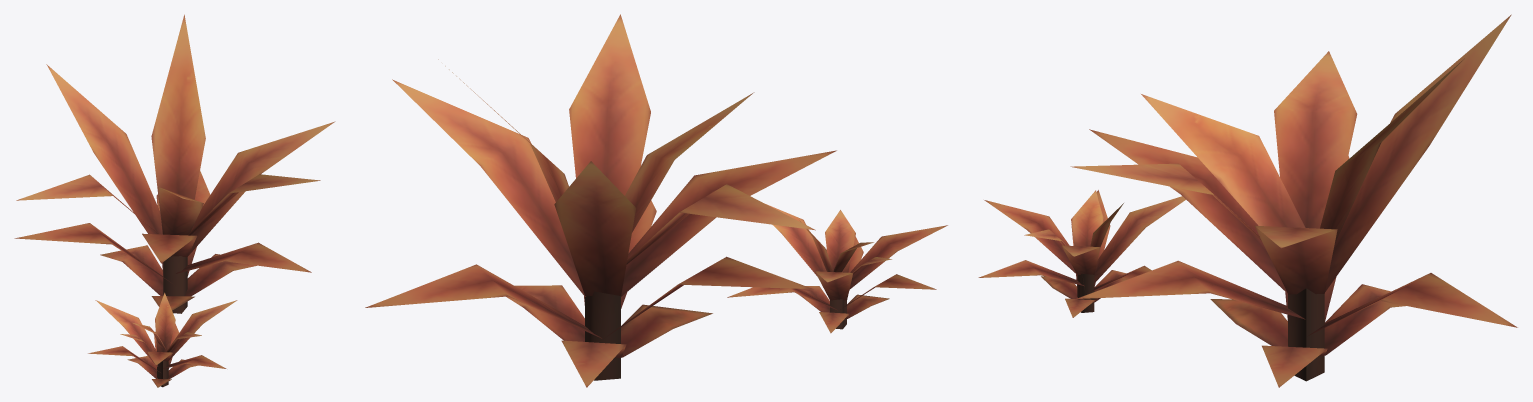
File: xiaozhiwu.FBX
The picture shows the model from 3 angles, left to right: view 1: azimuth 30°, elevation 25°; view 2: azimuth 150°, elevation 25°; view 3: azimuth 270°, elevation 25°; orthographic projection. The views are drawn at different scales.
Visible parts, largest first — view 1: xiaozhiwu; view 2: xiaozhiwu; view 3: xiaozhiwu.
Boxes of the visible parts, x1,y1,x2,y2 form: xiaozhiwu: (14, 14, 335, 387); xiaozhiwu: (365, 14, 947, 387); xiaozhiwu: (978, 14, 1517, 387).
Size of the model in its own units: 1.33 by 0.9916 by 1.35.
